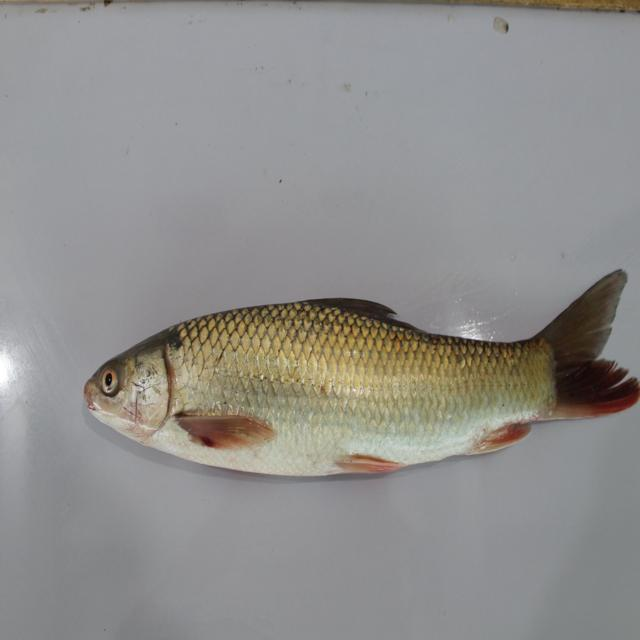Mori: (74, 249, 640, 501)
